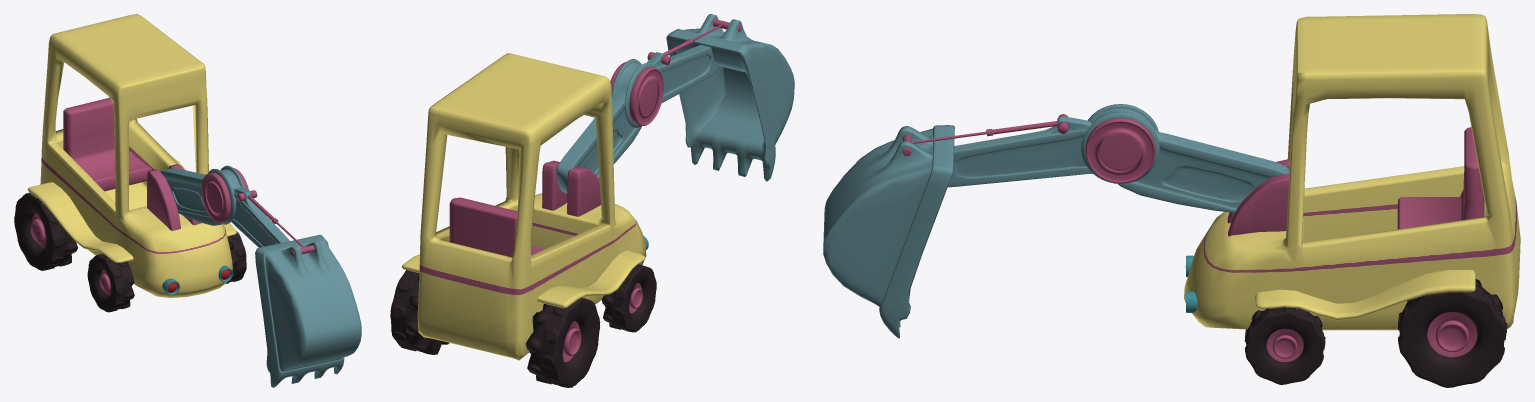
Rendered from excavator@idle.fbx.
The picture shows the model from 3 angles, left to right: view 1: azimuth 30°, elevation 25°; view 2: azimuth 150°, elevation 25°; view 3: azimuth 270°, elevation 25°; orthographic projection. The views are drawn at different scales.
Parts seen in each view (by area): view 1: polySurface238, polySurface227, polySurface224, polySurface235, polySurface205, polySurface236, polySurface207, polySurface232, polySurface206; view 2: polySurface238, polySurface227, polySurface224, polySurface205, polySurface235, polySurface207, polySurface190, polySurface236, polySurface232, polySurface231; view 3: polySurface238, polySurface224, polySurface227, polySurface190, polySurface206, polySurface237, polySurface235, polySurface231.
Part boxes in pixels (x1,y1,x2,y2): polySurface238: [40, 14, 232, 297]; polySurface227: [255, 234, 361, 387]; polySurface224: [160, 165, 314, 256]; polySurface235: [63, 98, 151, 191]; polySurface205: [14, 192, 77, 270]; polySurface236: [27, 182, 133, 262]; polySurface207: [87, 253, 134, 312]; polySurface232: [147, 169, 180, 230]; polySurface206: [226, 231, 246, 283]; polySurface238: [417, 53, 646, 360]; polySurface227: [666, 14, 794, 181]; polySurface224: [556, 19, 741, 193]; polySurface205: [525, 297, 600, 387]; polySurface235: [449, 197, 544, 257]; polySurface207: [602, 264, 656, 332]; polySurface190: [390, 270, 449, 354]; polySurface236: [537, 250, 645, 308]; polySurface232: [567, 166, 600, 216]; polySurface231: [542, 160, 567, 210]; polySurface238: [1184, 14, 1520, 330]; polySurface224: [902, 104, 1289, 212]; polySurface227: [823, 125, 954, 338]; polySurface190: [1398, 279, 1506, 387]; polySurface206: [1244, 307, 1325, 384]; polySurface237: [1255, 270, 1475, 320]; polySurface235: [1397, 127, 1484, 229]; polySurface231: [1228, 173, 1289, 236].
Size of the model in its own units: 5.45 by 7.96 by 16.71.
